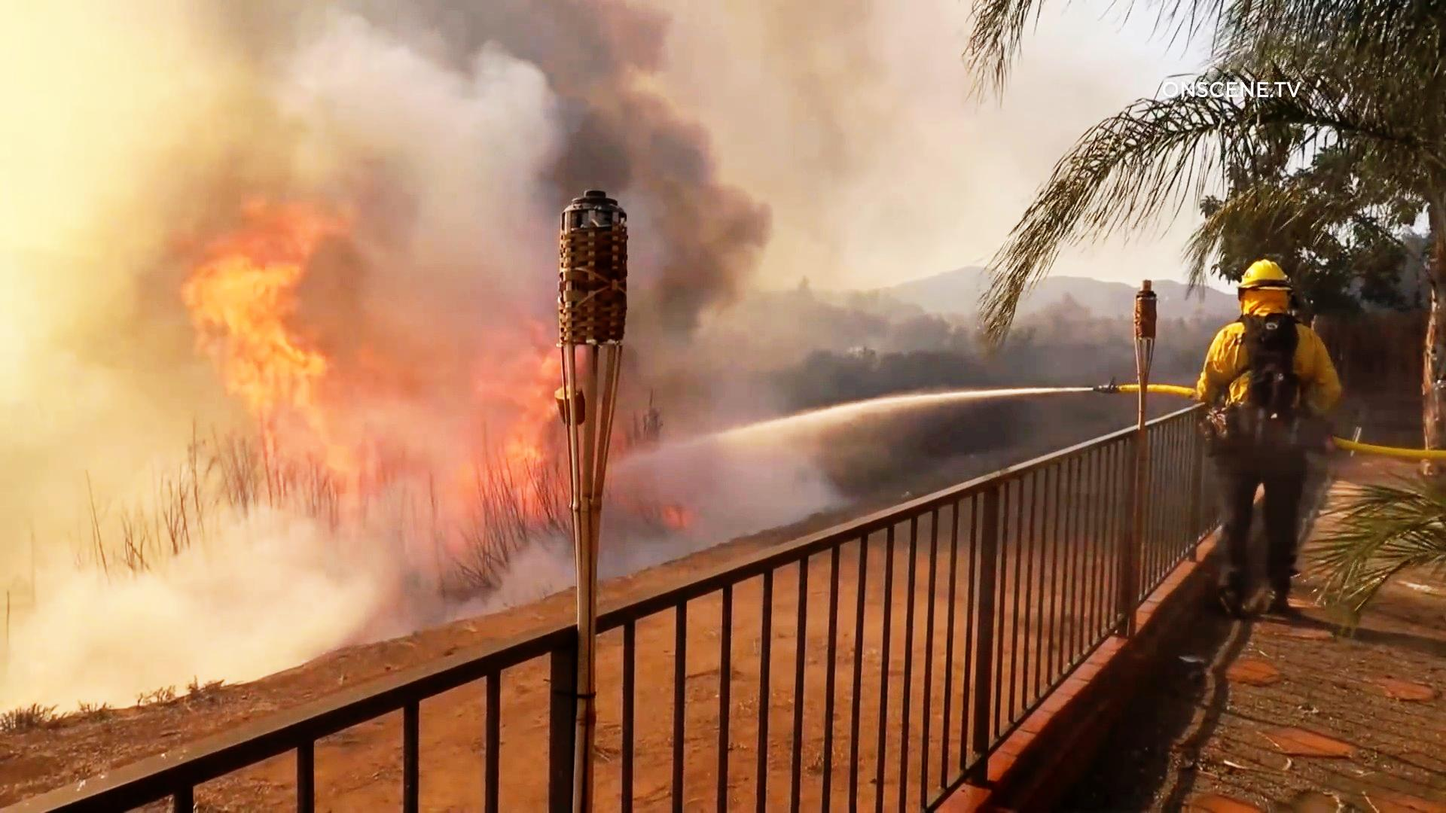fire: (192, 206, 364, 511), (415, 324, 561, 584)
smoke: (4, 0, 913, 195), (624, 0, 793, 437), (356, 2, 560, 315)
